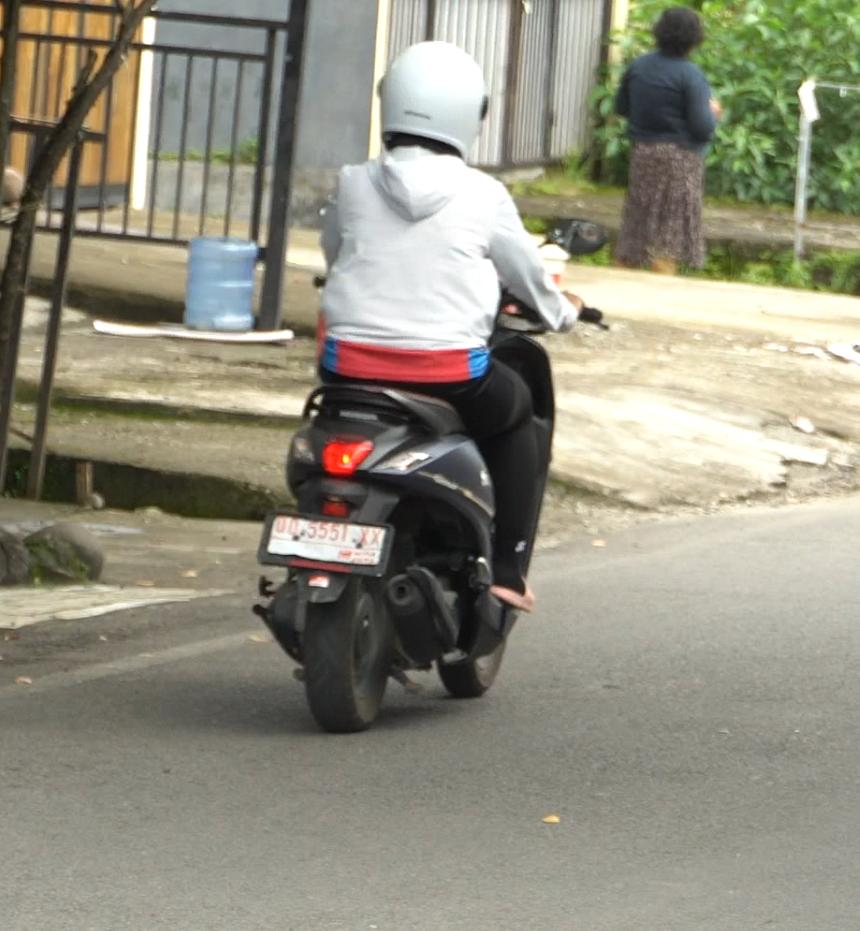number-plate: (251, 513, 403, 573)
